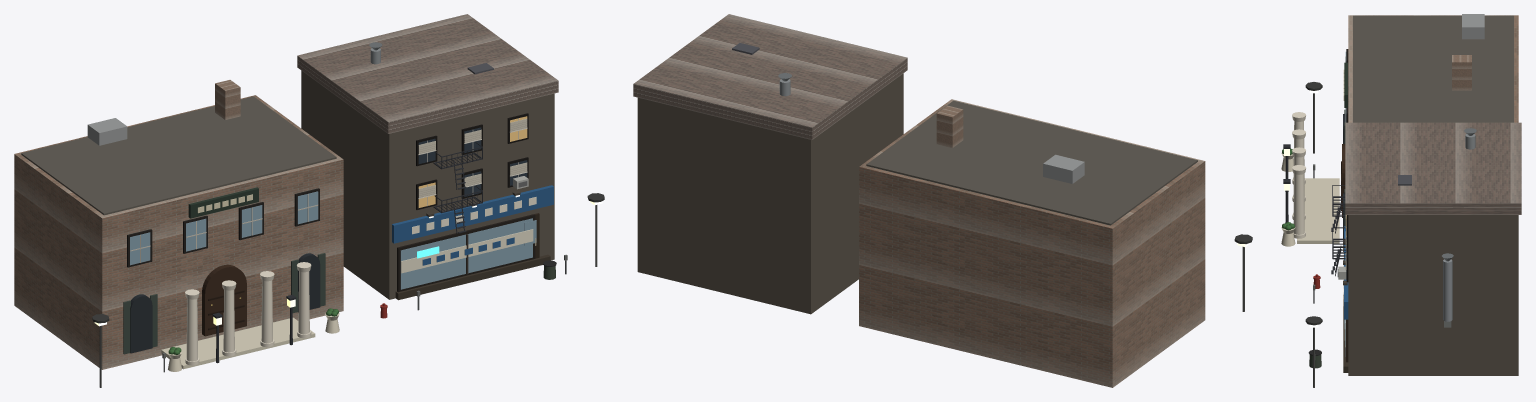
The model's file is jersey_funeral_cleaner.glb.
3 views of the same model, side by side, from view 1: azimuth 30°, elevation 25°; view 2: azimuth 150°, elevation 25°; view 3: azimuth 270°, elevation 25° (orthographic). The views are drawn at different scales.
Bounding box in the file's own units: 40.2 × 14.8 × 16.9.
4 materials, 4 textured.
